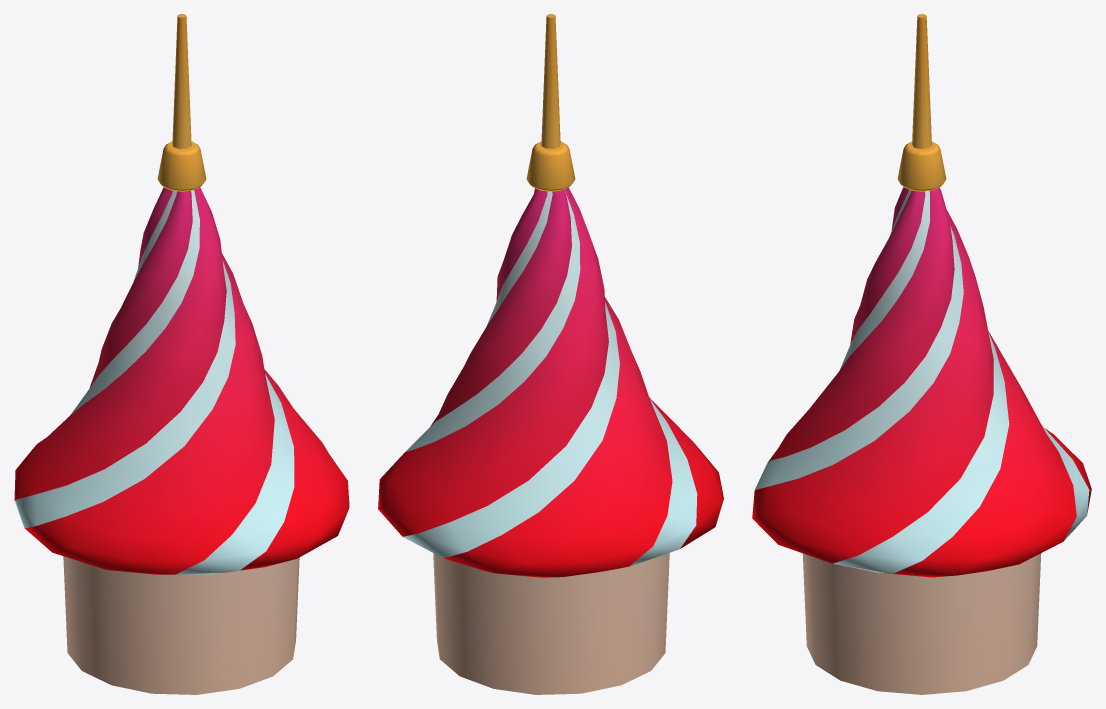
The model's file is TowerCap_04.glb.
The picture shows the model from 3 angles, left to right: view 1: azimuth 30°, elevation 25°; view 2: azimuth 150°, elevation 25°; view 3: azimuth 270°, elevation 25°; orthographic projection.
Parts seen in each view (by area): view 1: TowerCap_04; view 2: TowerCap_04; view 3: TowerCap_04.
Part boxes in pixels (left/top/right/bottom): TowerCap_04: left=14, top=14, right=349, bottom=694; TowerCap_04: left=378, top=14, right=723, bottom=694; TowerCap_04: left=752, top=14, right=1091, bottom=694.
Bounding box in the file's own units: 9.11 × 18.66 × 9.11.
Materials: 1 (1 with a texture image).
